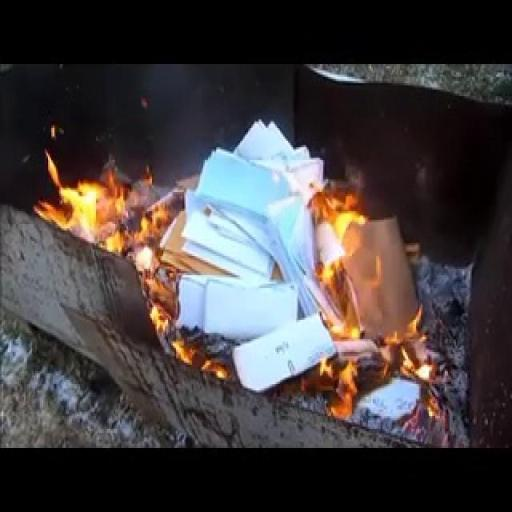smoke: (297, 152, 394, 402), (38, 113, 168, 273)
